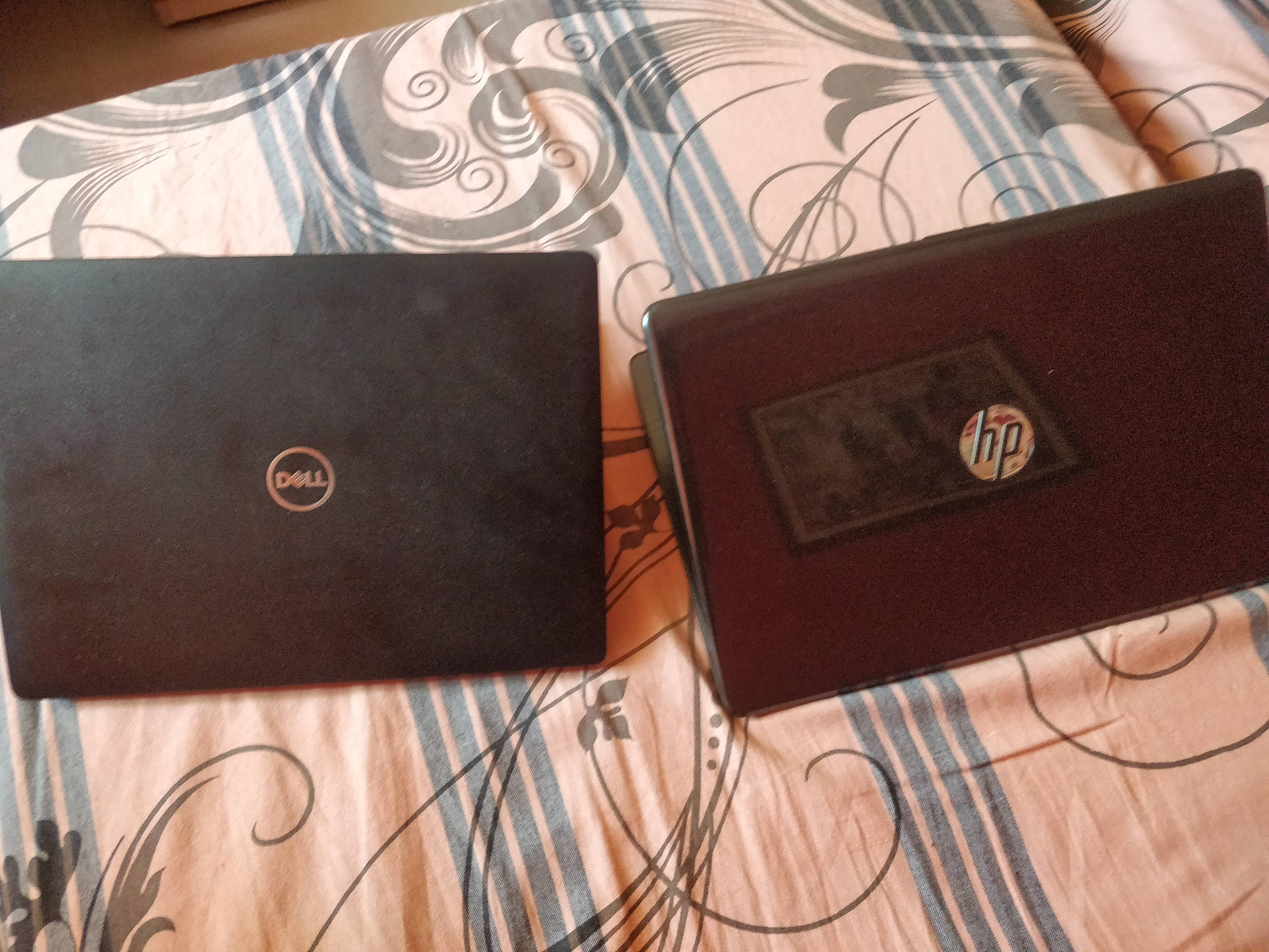Electronics: (618, 159, 1269, 732), (0, 242, 618, 703)
